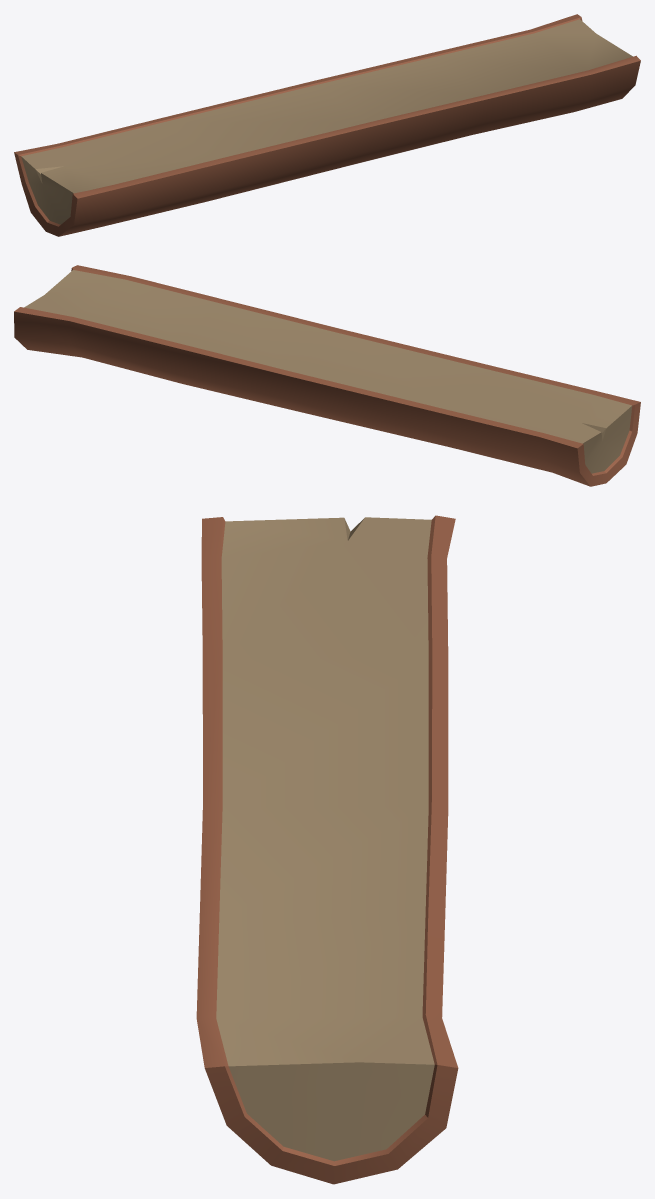
The model's file is LightWoodFloorLargeBeamPlatform1.fbx.
The picture shows the model from 3 angles, top to bottom: view 1: azimuth 30°, elevation 25°; view 2: azimuth 150°, elevation 25°; view 3: azimuth 270°, elevation 25°; orthographic projection. The views are drawn at different scales.
Visible parts, largest first — view 1: LightWoodFloorLargeBeamPlatform1; view 2: LightWoodFloorLargeBeamPlatform1; view 3: LightWoodFloorLargeBeamPlatform1.
Boxes of the visible parts, x1,y1,x2,y2 form: LightWoodFloorLargeBeamPlatform1: [14, 14, 640, 236]; LightWoodFloorLargeBeamPlatform1: [14, 265, 640, 486]; LightWoodFloorLargeBeamPlatform1: [196, 515, 458, 1184].
Size of the model in its own units: 503 by 49.59 by 100.
